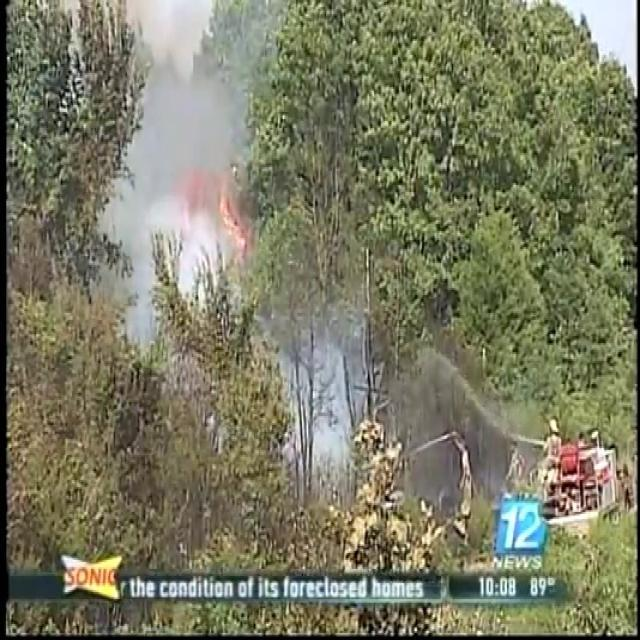Smoke: (107, 0, 273, 327), (284, 336, 366, 504)
